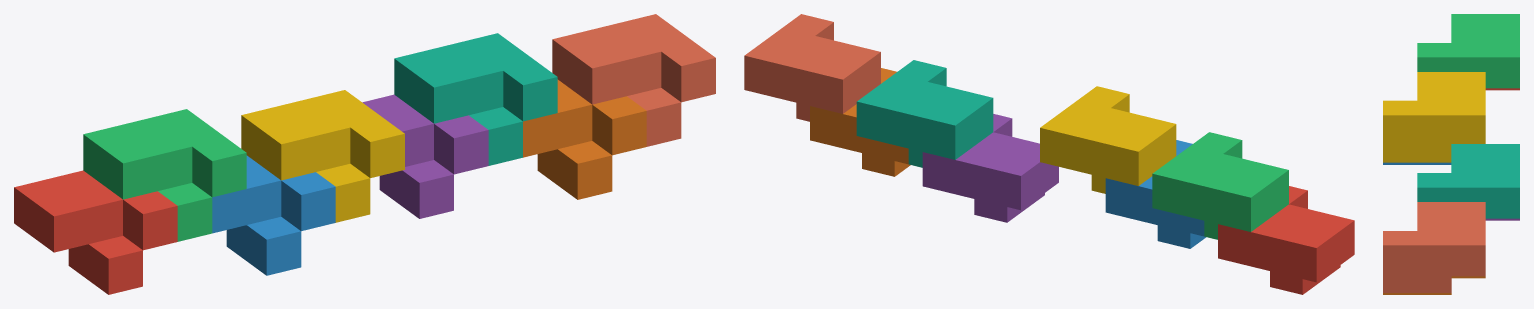
File: tiling.obj
The picture shows the model from 3 angles, left to right: view 1: azimuth 30°, elevation 25°; view 2: azimuth 150°, elevation 25°; view 3: azimuth 270°, elevation 25°; orthographic projection. The views are drawn at different scales.
Parts seen in each view (by area): view 1: copy_1_domain_3, copy_1_domain_8, copy_1_domain_4, copy_1_domain_7, copy_1_domain_1, copy_1_domain_2, copy_1_domain_6, copy_1_domain_5; view 2: copy_1_domain_7, copy_1_domain_3, copy_1_domain_4, copy_1_domain_8, copy_1_domain_1, copy_1_domain_5, copy_1_domain_2, copy_1_domain_6; view 3: copy_1_domain_8, copy_1_domain_4, copy_1_domain_7, copy_1_domain_3, copy_1_domain_6, copy_1_domain_2, copy_1_domain_1, copy_1_domain_5.
Boxes of the visible parts, x1,y1,x2,y2 form: copy_1_domain_3: (83, 109, 246, 241); copy_1_domain_8: (552, 14, 715, 146); copy_1_domain_4: (241, 90, 404, 222); copy_1_domain_7: (394, 33, 557, 165); copy_1_domain_1: (14, 170, 177, 294); copy_1_domain_2: (212, 155, 335, 275); copy_1_domain_6: (523, 79, 646, 199); copy_1_domain_5: (362, 94, 488, 218); copy_1_domain_7: (856, 60, 993, 167); copy_1_domain_3: (1152, 132, 1288, 239); copy_1_domain_4: (1040, 86, 1176, 193); copy_1_domain_8: (744, 14, 880, 121); copy_1_domain_1: (1218, 186, 1354, 294); copy_1_domain_5: (922, 114, 1058, 222); copy_1_domain_2: (1105, 140, 1206, 248); copy_1_domain_6: (810, 68, 910, 176); copy_1_domain_8: (1383, 202, 1485, 292); copy_1_domain_4: (1383, 72, 1485, 162); copy_1_domain_7: (1417, 144, 1519, 218); copy_1_domain_3: (1417, 14, 1519, 88); copy_1_domain_6: (1383, 276, 1485, 294); copy_1_domain_2: (1383, 162, 1451, 164); copy_1_domain_1: (1485, 88, 1519, 90); copy_1_domain_5: (1485, 218, 1519, 220).
Size of the model in its own units: 18 by 3 by 4.
